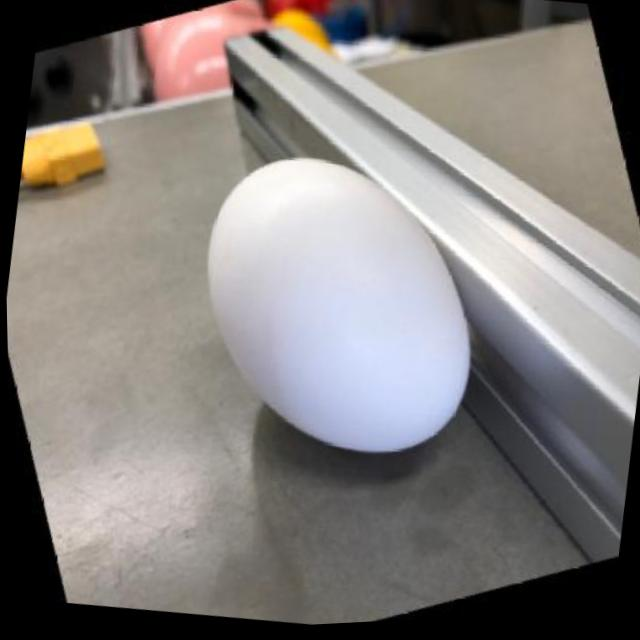egg: (175, 133, 503, 485)
